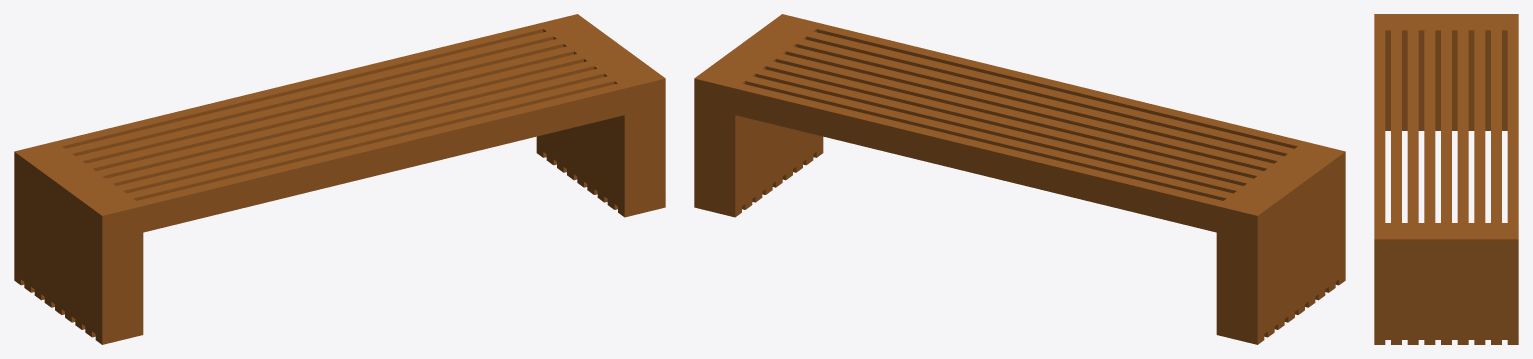
The picture shows the model from 3 angles, left to right: view 1: azimuth 30°, elevation 25°; view 2: azimuth 150°, elevation 25°; view 3: azimuth 270°, elevation 25°; orthographic projection. The views are drawn at different scales.
Parts seen in each view (by area): view 1: mesh3_mesh3-geometry, mesh1_mesh1-geometry, mesh7_mesh7-geometry, mesh5_mesh5-geometry; view 2: mesh3_mesh3-geometry, mesh1_mesh1-geometry, mesh5_mesh5-geometry, mesh7_mesh7-geometry; view 3: mesh3_mesh3-geometry, mesh5_mesh5-geometry, mesh1_mesh1-geometry, mesh7_mesh7-geometry.
Boxes of the visible parts, x1,y1,x2,y2 form: mesh3_mesh3-geometry: (14, 14, 654, 234); mesh1_mesh1-geometry: (14, 105, 665, 344); mesh7_mesh7-geometry: (95, 73, 665, 242); mesh5_mesh5-geometry: (21, 19, 658, 333); mesh3_mesh3-geometry: (694, 21, 1335, 242); mesh1_mesh1-geometry: (694, 105, 1345, 344); mesh5_mesh5-geometry: (701, 19, 1338, 333); mesh7_mesh7-geometry: (776, 14, 1345, 182); mesh3_mesh3-geometry: (1391, 14, 1518, 260); mesh5_mesh5-geometry: (1385, 14, 1507, 339); mesh1_mesh1-geometry: (1374, 261, 1518, 344); mesh7_mesh7-geometry: (1374, 14, 1385, 260).
Size of the model in its own units: 0.9444 by 0.2066 by 0.2558.
